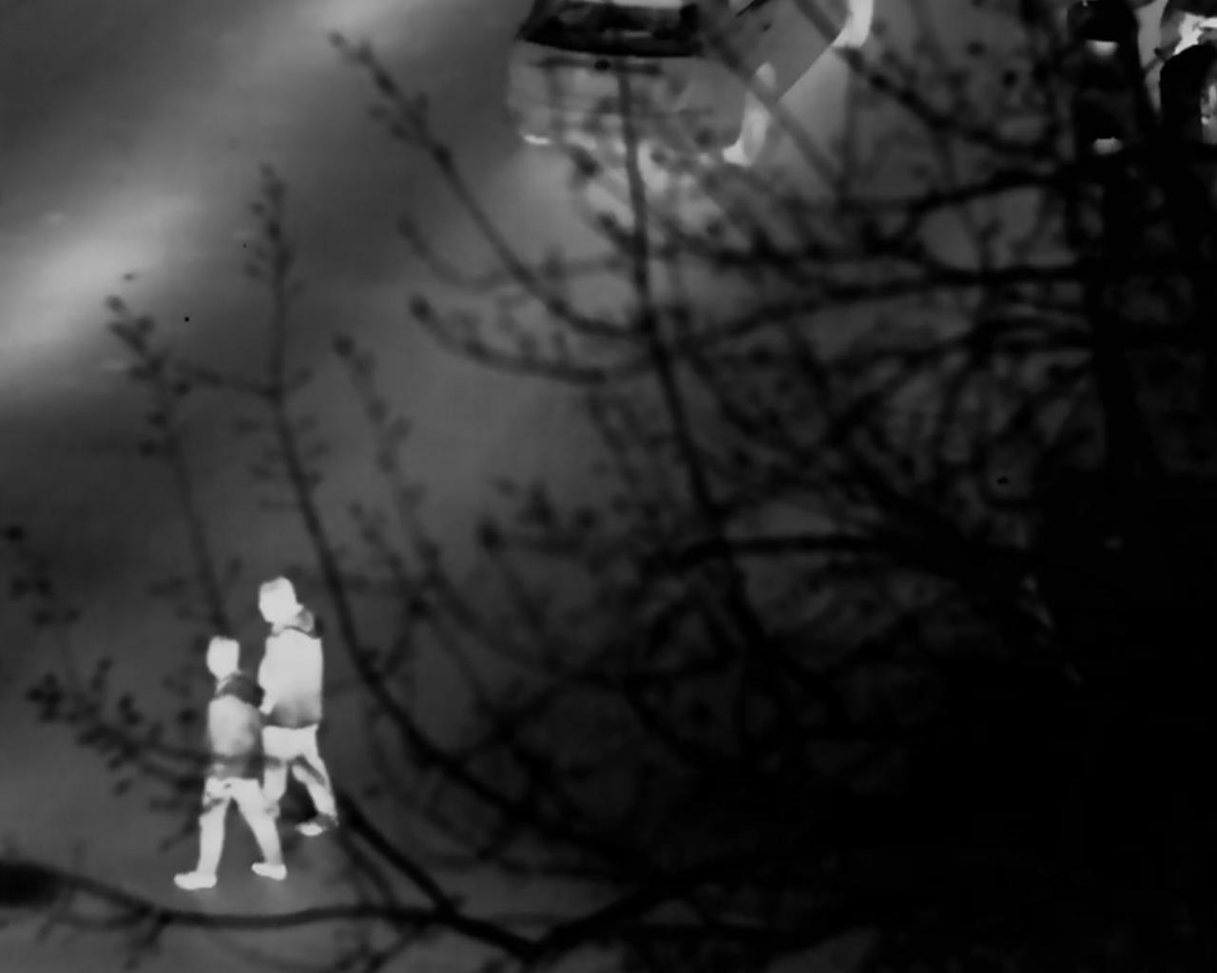person: (174, 625, 289, 895), (249, 581, 340, 845)
